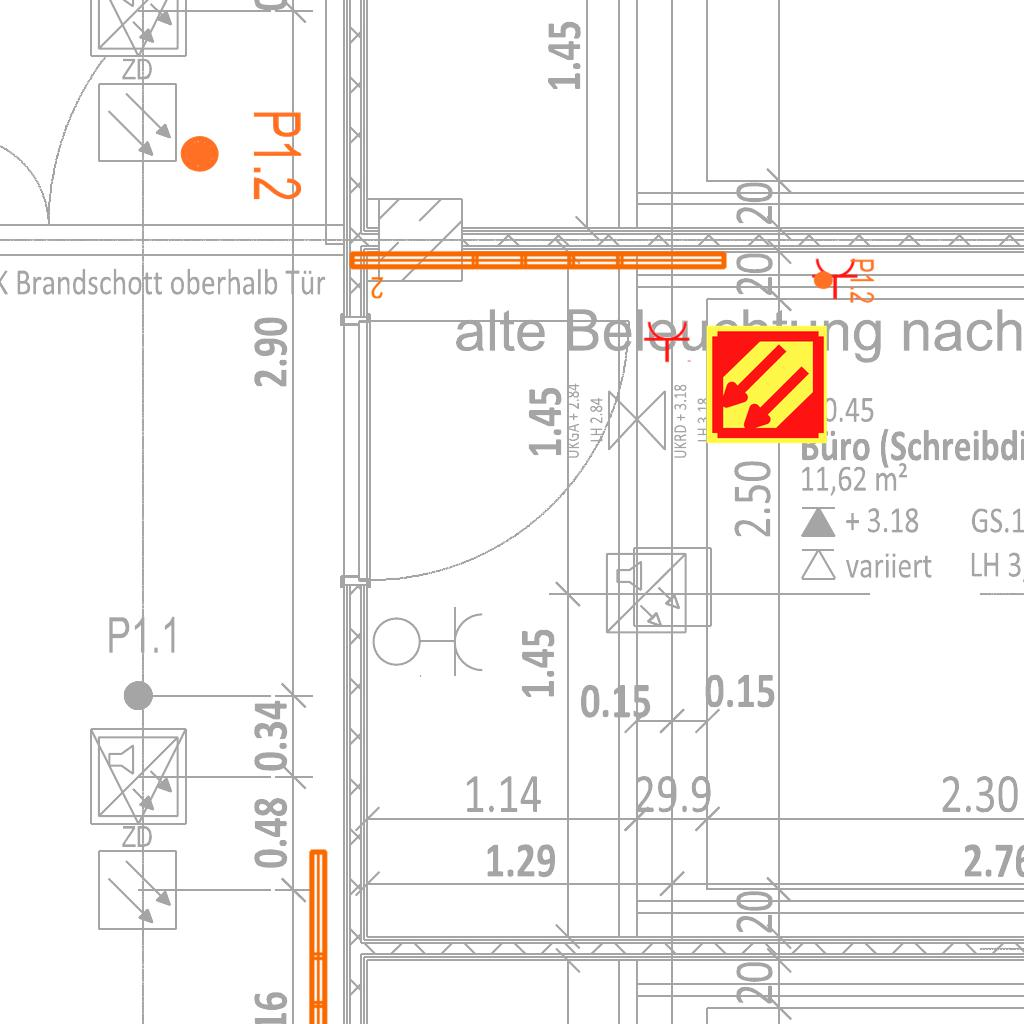ASR_Ansaugrauchmelder: (704, 322, 829, 447)
Ambulanz_Pendelleuchte_LED: (345, 245, 732, 301), (303, 844, 359, 1024)
Downlight_LED_Einbauleuchten_Flur: (177, 109, 305, 202), (812, 258, 876, 304)
Schukosteckdose_einfach: (643, 320, 693, 363), (811, 257, 861, 300)
